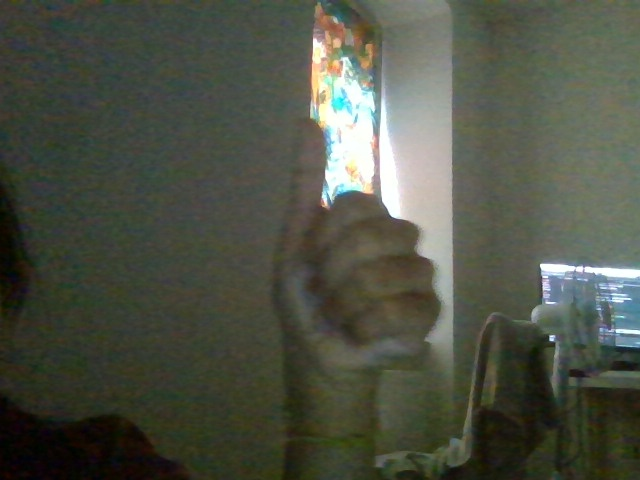Thumbs up: (252, 114, 439, 384)
